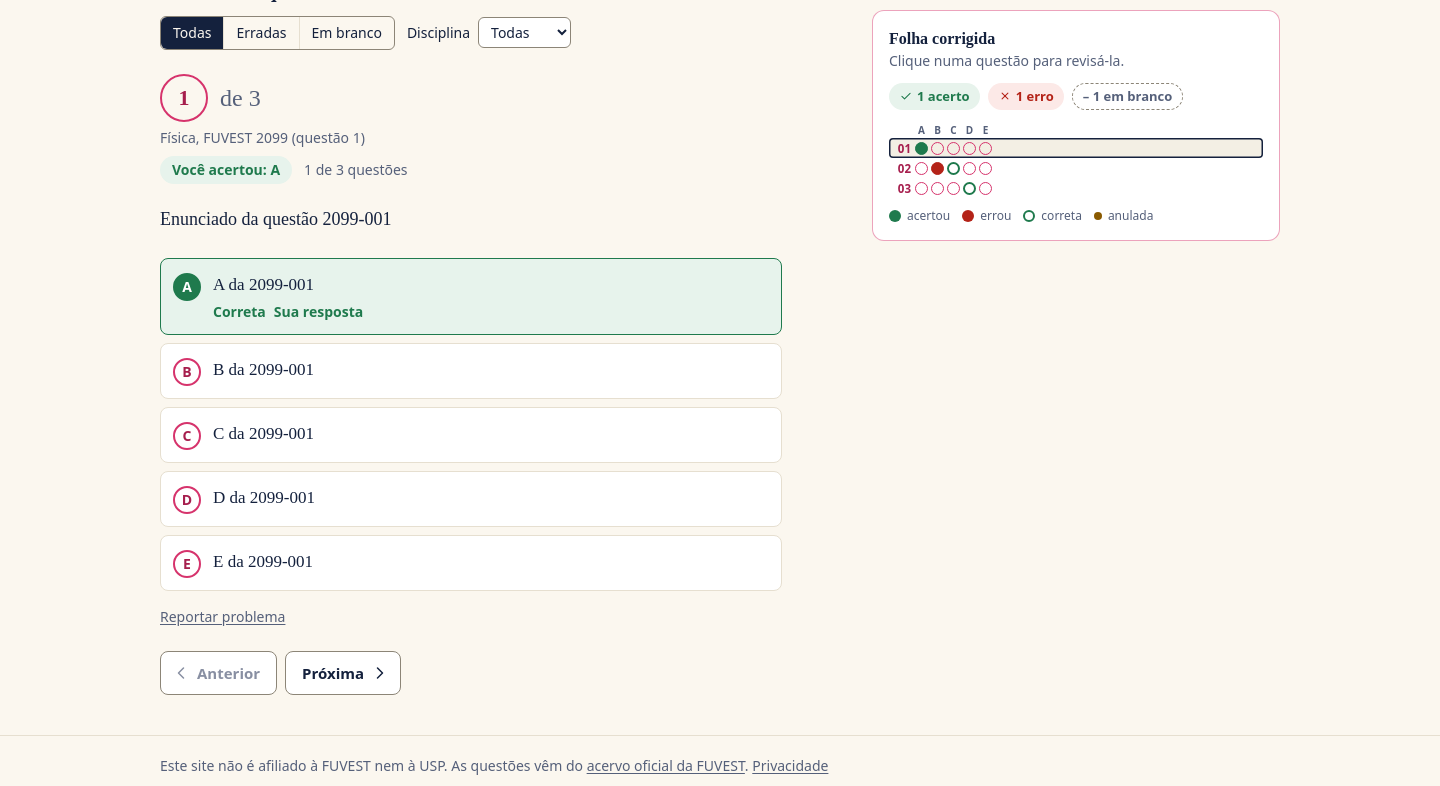
Test: Resultado (RF-017 a RF-019) › a revisão mostra uma questão por vez, com selo, posição e Anterior/Próxima (D6)
This screenshot has width=1440, height=786.
(page scrolled)
Check: the heading named "Questão 1 de 3" is shown, box [159,74,261,126]
Check: the element "Revisão das questões" shows "Você acertou: A", box [172,160,280,179]
Click the button with aria-label "Próxima questão" at point(343, 673), box [285,651,401,695]
(page scrolled)
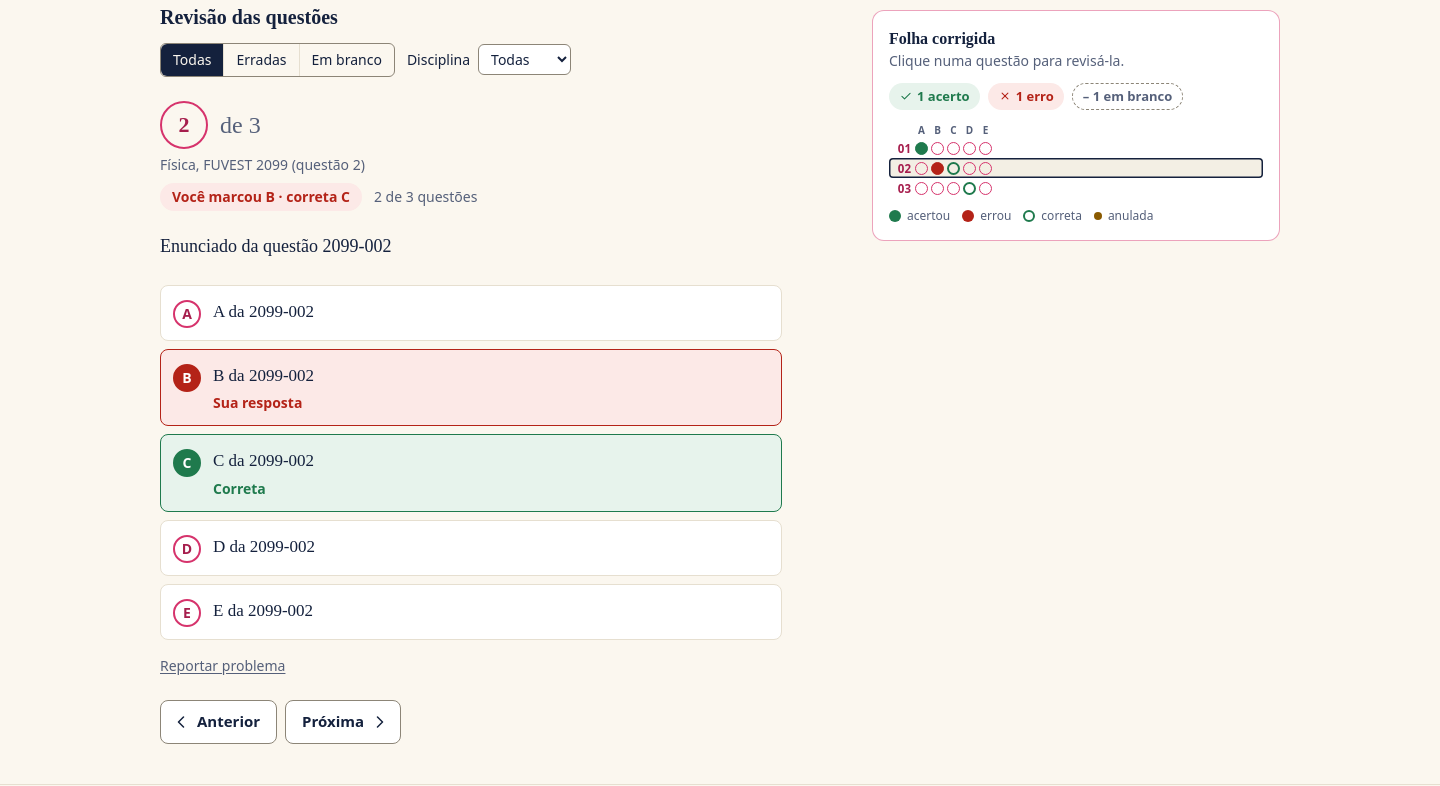
Check: the element "Revisão das questões" shows "Você marcou B · correta C", box [172,187,350,206]
Click the button with aria-label "Próxima questão" at point(343, 722), box [285,700,401,744]
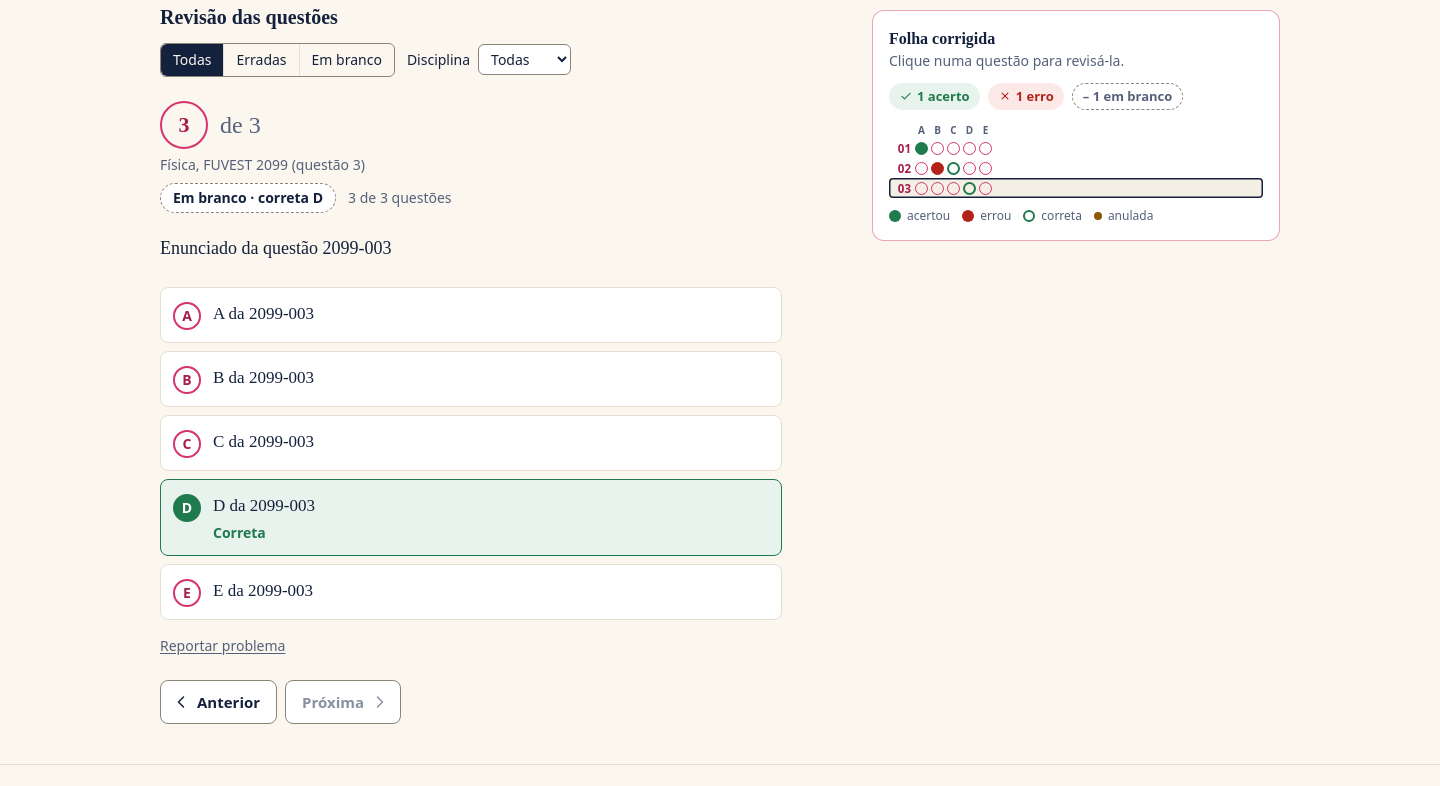
Check: the element "Revisão das questões" shows "Em branco · correta D", box [173,188,323,207]
Check: the button with aria-label "Próxima questão" is disabled, box [285,680,401,724]
